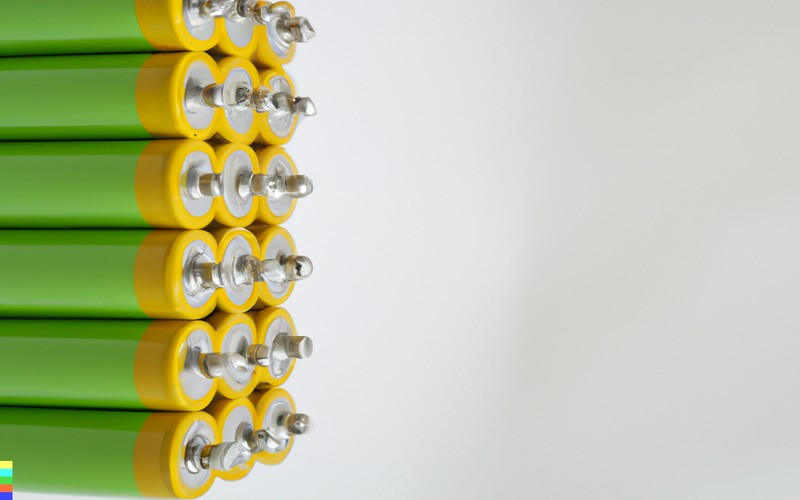Battery: (0, 0, 322, 500)
